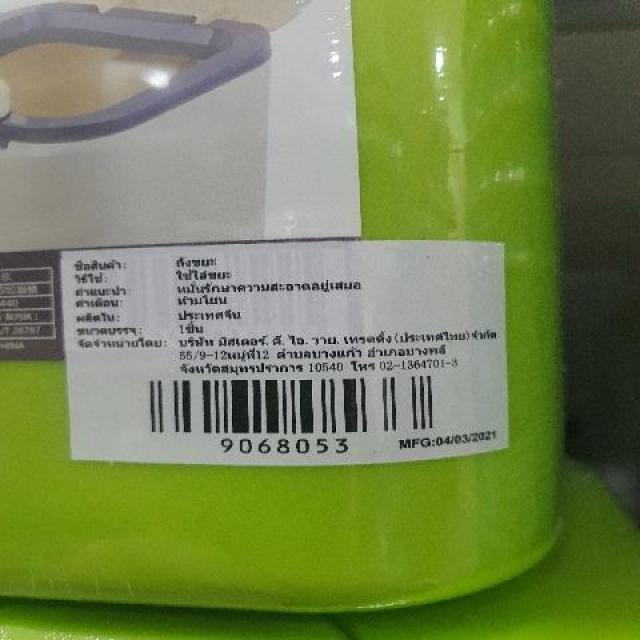Barcode: (136, 372, 439, 455)
